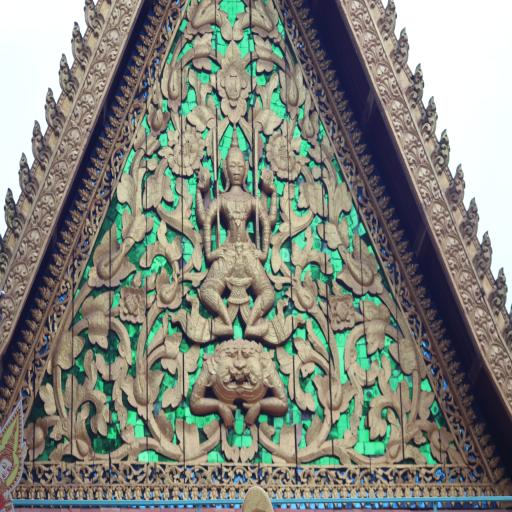hoa: (214, 36, 254, 126), (329, 283, 355, 337), (117, 285, 148, 325)
la: (280, 313, 449, 462), (280, 102, 382, 313), (70, 107, 174, 311), (35, 308, 131, 458), (131, 320, 218, 464), (276, 312, 338, 462), (248, 0, 310, 111), (158, 0, 217, 108), (414, 164, 443, 204), (70, 90, 100, 128), (454, 268, 484, 305), (484, 343, 512, 380), (471, 305, 498, 343), (373, 60, 398, 101), (6, 261, 34, 296), (17, 224, 44, 260), (96, 28, 126, 60), (45, 158, 75, 190), (442, 236, 470, 270), (258, 464, 298, 487), (374, 464, 414, 487), (402, 133, 429, 166), (184, 462, 221, 486), (389, 100, 414, 135), (430, 202, 454, 238), (222, 463, 258, 487), (70, 462, 109, 484), (56, 128, 86, 156), (298, 466, 340, 486), (110, 463, 148, 485), (34, 463, 70, 486), (32, 193, 58, 224), (85, 61, 111, 91), (351, 0, 374, 33), (108, 0, 135, 28), (448, 462, 482, 484), (0, 296, 18, 337), (416, 462, 446, 486), (149, 462, 184, 482), (339, 467, 372, 488), (361, 32, 384, 62)
lua: (41, 87, 66, 136), (30, 119, 52, 167), (70, 22, 92, 68), (3, 186, 21, 236), (18, 152, 36, 201), (378, 0, 403, 35), (448, 159, 465, 210), (462, 195, 480, 243), (491, 262, 508, 312), (59, 52, 77, 98), (421, 95, 440, 138), (476, 230, 494, 274), (394, 25, 412, 69), (434, 127, 450, 174), (83, 0, 103, 37), (408, 61, 424, 106)
than: (195, 129, 280, 342)
